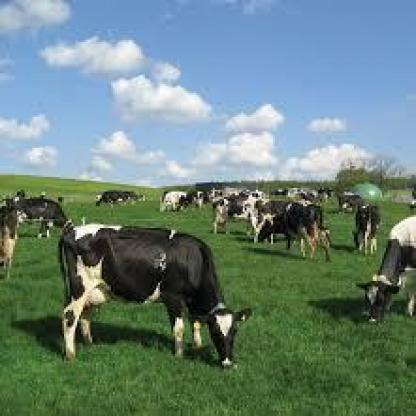cow: (57, 221, 255, 370), (354, 213, 416, 323), (255, 202, 334, 262), (7, 196, 78, 238), (209, 190, 275, 235), (0, 203, 19, 281), (353, 204, 379, 258), (93, 189, 131, 209), (157, 190, 189, 212), (336, 192, 368, 212)
